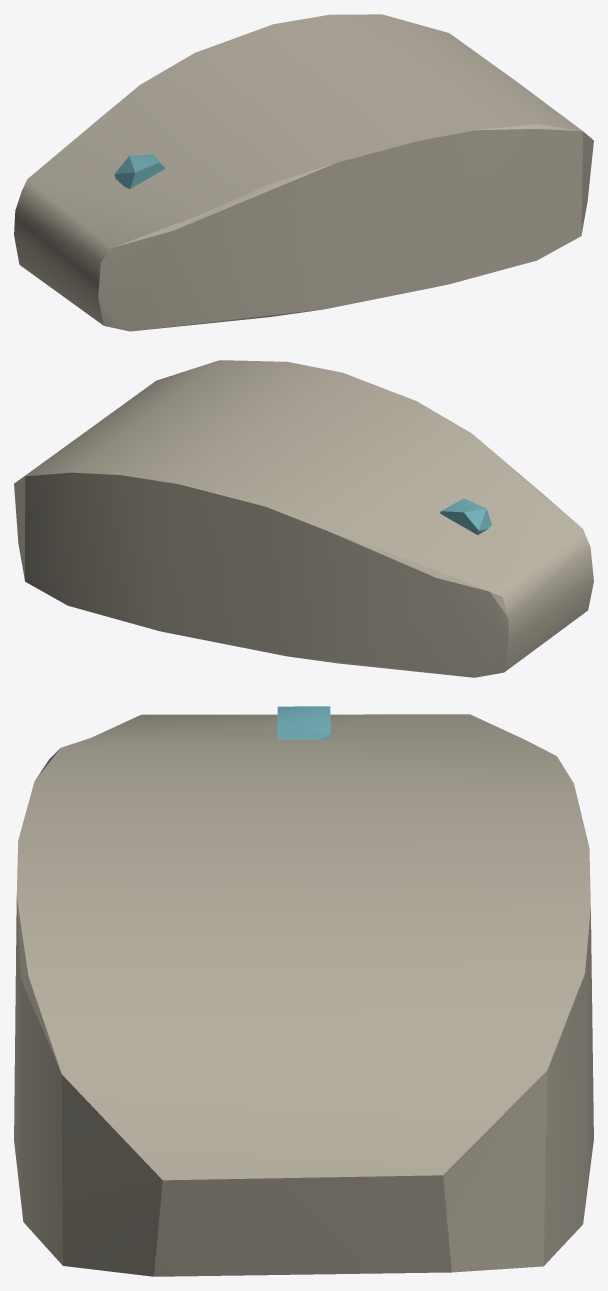
File: Mouse.fbx
3 views of the same model, one above another, from view 1: azimuth 30°, elevation 25°; view 2: azimuth 150°, elevation 25°; view 3: azimuth 270°, elevation 25° (orthographic). The views are drawn at different scales.
Visible parts, largest first — view 1: Mouse; view 2: Mouse; view 3: Mouse.
Part boxes in pixels (x1=…): Mouse: x1=14, y1=14, x2=593, y2=331; Mouse: x1=14, y1=360, x2=593, y2=677; Mouse: x1=14, y1=706, x2=593, y2=1276.
Bounding box in the file's own units: 10.98 × 3.18 × 6.01.
